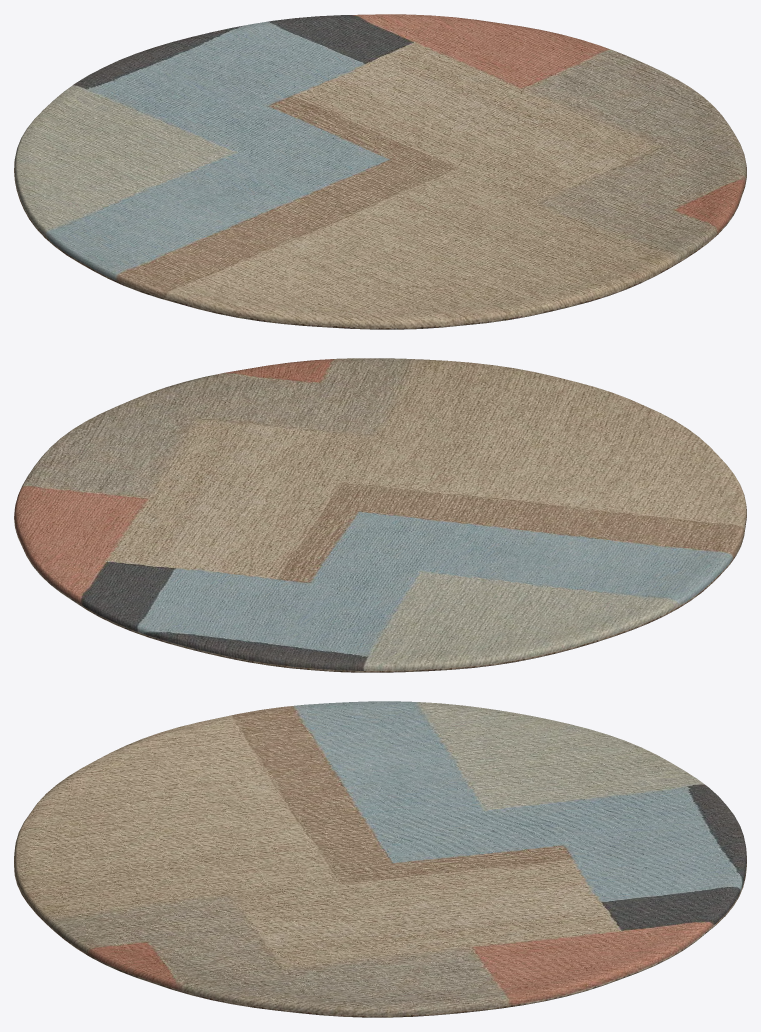
Rendered from B07HSHT9YC.glb.
The picture shows the model from 3 angles, top to bottom: view 1: azimuth 30°, elevation 25°; view 2: azimuth 150°, elevation 25°; view 3: azimuth 270°, elevation 25°; orthographic projection.
Visible parts, largest first — view 1: RootNode; view 2: RootNode; view 3: RootNode.
Part boxes in pixels (box(x1,y1,x2,y2)): RootNode: box(14, 14, 746, 329); RootNode: box(14, 358, 746, 672); RootNode: box(14, 701, 746, 1017).
Size of the model in its own units: 2.46 by 0.0327 by 2.45.
1 material, 1 textured.
